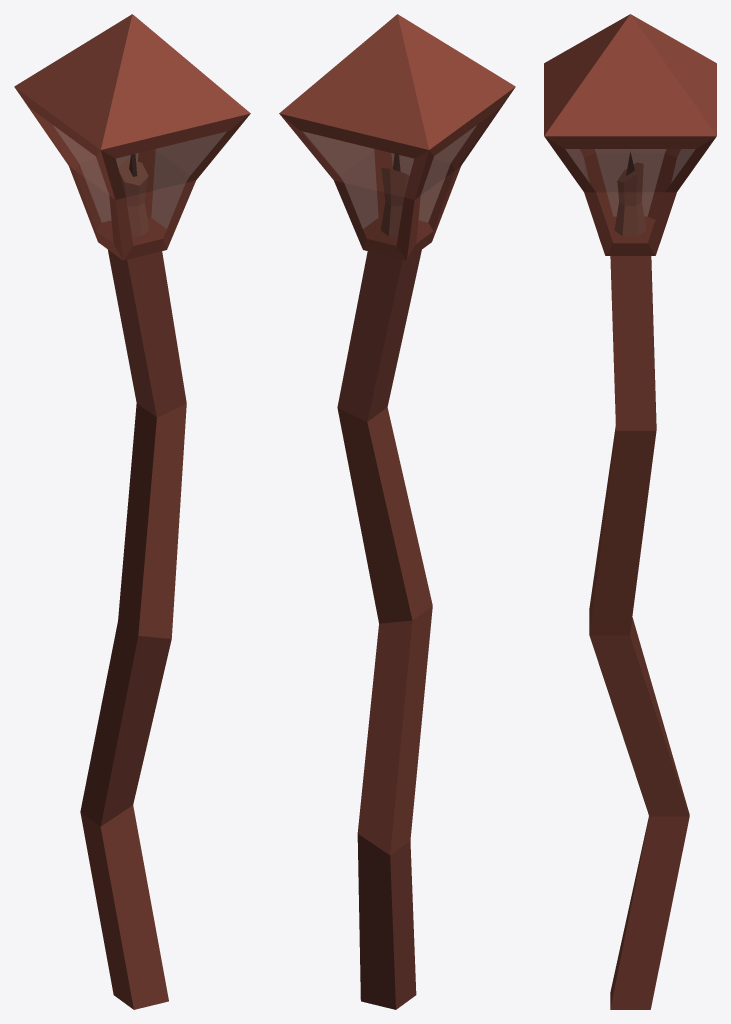
File: Lamp_5_Red.fbx
3 views of the same model, side by side, from view 1: azimuth 30°, elevation 25°; view 2: azimuth 150°, elevation 25°; view 3: azimuth 270°, elevation 25° (orthographic).
Visible parts, largest first — view 1: Lamp_5_Red_Part_1, Lamp_5_Red_Part_2, Lamp_5_Red_Part_3, Lamp_5_Red_Part_4; view 2: Lamp_5_Red_Part_1, Lamp_5_Red_Part_2, Lamp_5_Red_Part_3, Lamp_5_Red_Part_4; view 3: Lamp_5_Red_Part_1, Lamp_5_Red_Part_2, Lamp_5_Red_Part_3, Lamp_5_Red_Part_4.
Boxes of the visible parts, bbox=[...] form: Lamp_5_Red_Part_1: bbox=[80, 249, 186, 1009]; Lamp_5_Red_Part_2: bbox=[14, 14, 250, 260]; Lamp_5_Red_Part_3: bbox=[31, 109, 228, 245]; Lamp_5_Red_Part_4: bbox=[118, 159, 148, 236]; Lamp_5_Red_Part_1: bbox=[337, 250, 432, 1009]; Lamp_5_Red_Part_2: bbox=[279, 14, 515, 260]; Lamp_5_Red_Part_3: bbox=[301, 109, 498, 245]; Lamp_5_Red_Part_4: bbox=[381, 168, 409, 236]; Lamp_5_Red_Part_1: bbox=[589, 256, 689, 1009]; Lamp_5_Red_Part_2: bbox=[544, 14, 716, 255]; Lamp_5_Red_Part_3: bbox=[565, 149, 695, 243]; Lamp_5_Red_Part_4: bbox=[615, 162, 645, 235].
Bounding box in the file's own units: 64.05 × 402 × 64.05.
